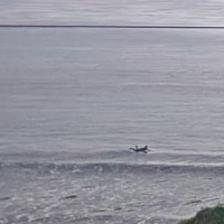surfer: (130, 146, 148, 152)
